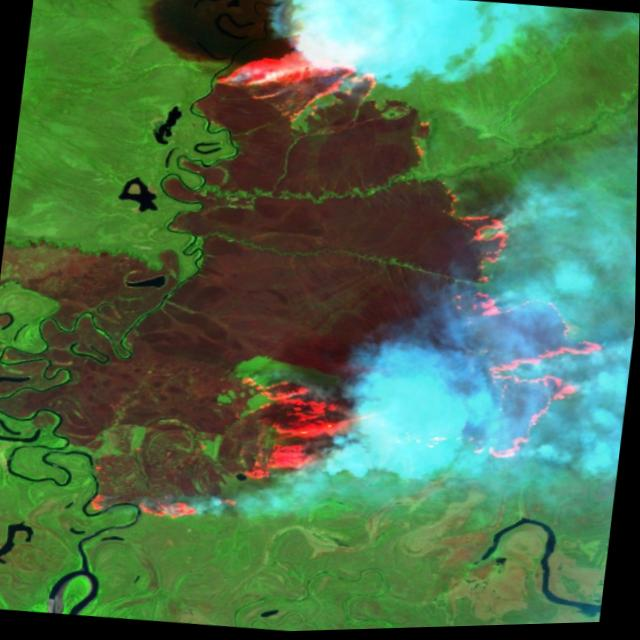fire: (77, 8, 640, 572)
